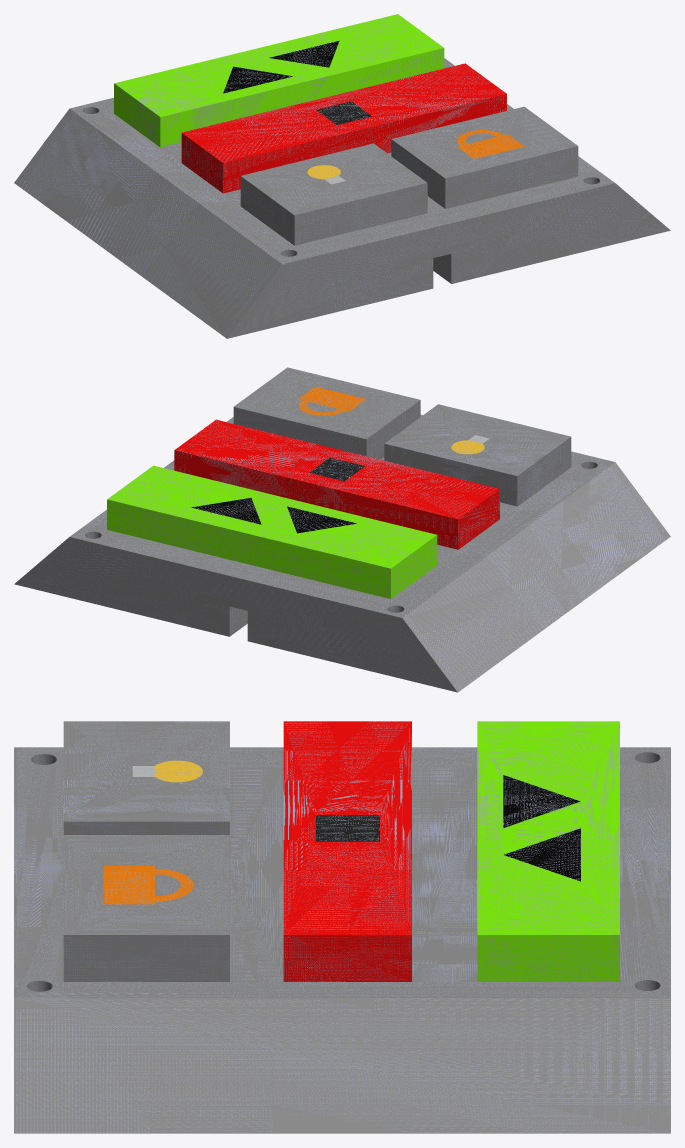
The model's file is button.dae.
3 views of the same model, one above another, from view 1: azimuth 30°, elevation 25°; view 2: azimuth 150°, elevation 25°; view 3: azimuth 270°, elevation 25° (orthographic). The views are drawn at different scales.
Parts seen in each view (by area): view 1: SketchUp (×9); view 2: SketchUp (×9); view 3: SketchUp (×10).
Boxes of the visible parts, bbox=[...] form: SketchUp (×9): bbox=[14, 14, 670, 338]; SketchUp (×9): bbox=[14, 367, 670, 692]; SketchUp (×10): bbox=[14, 721, 670, 1133].
Bounding box in the file's own units: 3.81 × 3.17 × 0.75.
